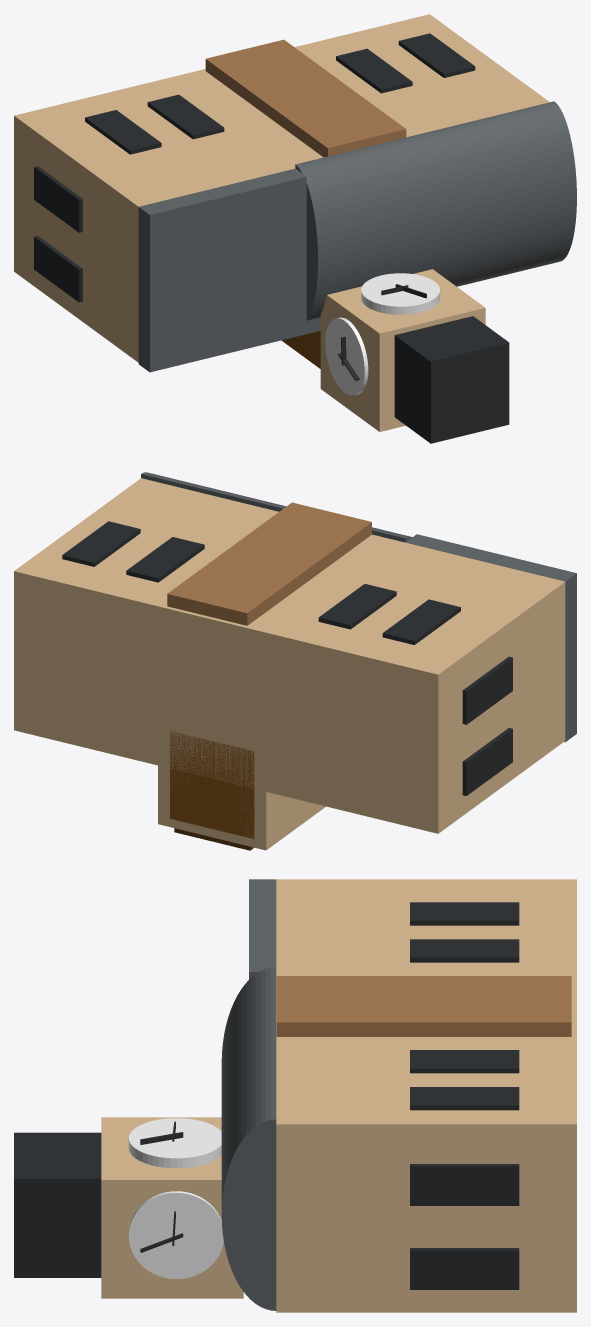
The model's file is TownHall.obj.
3 renders of one model, top to bottom at view 1: azimuth 30°, elevation 25°; view 2: azimuth 150°, elevation 25°; view 3: azimuth 270°, elevation 25°, orthographic. The views are drawn at different scales.
Visible parts, largest first — view 1: obj_9, obj_16, obj_11, obj_23, obj_10, obj_8, obj_26, obj_2, obj_3, obj_18, obj_24, obj_25 (+5 smaller); view 2: obj_9, obj_26, obj_0, obj_1, obj_23, obj_25, obj_24, obj_12, obj_13, obj_14, obj_15, obj_16 (+1 smaller); view 3: obj_9, obj_26, obj_10, obj_8, obj_2, obj_18, obj_24, obj_25, obj_11, obj_3, obj_13, obj_15 (+3 smaller).
Part boxes in pixels (box(x1,y1,x2,y2)): obj_9: box(14, 14, 549, 362); obj_16: box(138, 190, 320, 372); obj_11: box(295, 122, 494, 320); obj_23: box(138, 168, 306, 359); obj_10: box(390, 101, 576, 283); obj_8: box(394, 316, 509, 443); obj_26: box(205, 39, 406, 157); obj_2: box(320, 269, 485, 431); obj_3: box(361, 273, 440, 314); obj_18: box(325, 317, 368, 395); obj_24: box(34, 235, 82, 302); obj_25: box(34, 166, 82, 232); obj_9: box(14, 478, 565, 833); obj_26: box(167, 502, 371, 625); obj_0: box(170, 731, 254, 838); obj_1: box(158, 719, 325, 850); obj_23: box(405, 534, 576, 729); obj_25: box(462, 656, 512, 724); obj_24: box(462, 728, 512, 795); obj_12: box(62, 521, 140, 566); obj_13: box(318, 584, 396, 629); obj_14: box(126, 537, 204, 582); obj_15: box(382, 599, 460, 644); obj_16: box(564, 586, 576, 742); obj_9: box(276, 879, 576, 1312); obj_26: box(276, 976, 571, 1036); obj_10: box(221, 1022, 276, 1310); obj_8: box(14, 1132, 101, 1277); obj_2: box(101, 1117, 243, 1298); obj_18: box(128, 1191, 223, 1279); obj_24: box(410, 1248, 519, 1289); obj_25: box(410, 1164, 519, 1205); obj_11: box(221, 967, 276, 1161); obj_3: box(128, 1118, 221, 1168); obj_13: box(410, 939, 519, 962); obj_15: box(410, 902, 519, 925).
Bounding box in the file's own units: 108 × 57 × 103.
